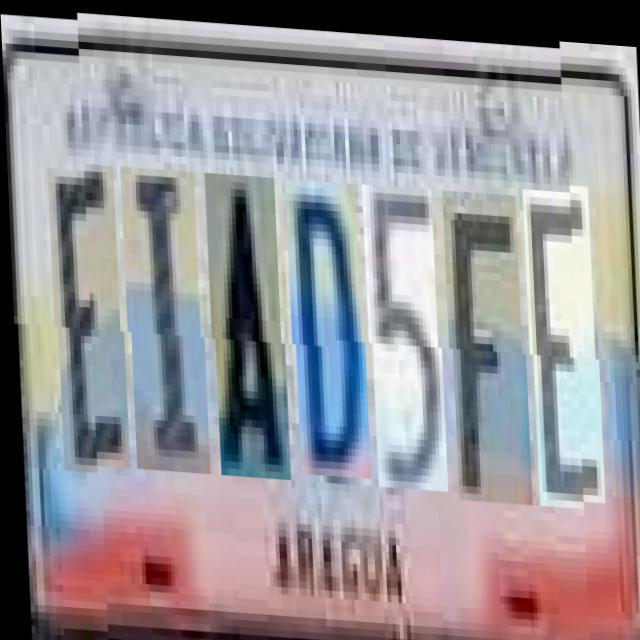5: (364, 179, 444, 485)
A: (207, 170, 287, 476)
D: (287, 174, 367, 473)
E: (524, 181, 602, 501), (50, 160, 126, 467)
F: (444, 184, 528, 497)
I: (122, 165, 206, 471)
